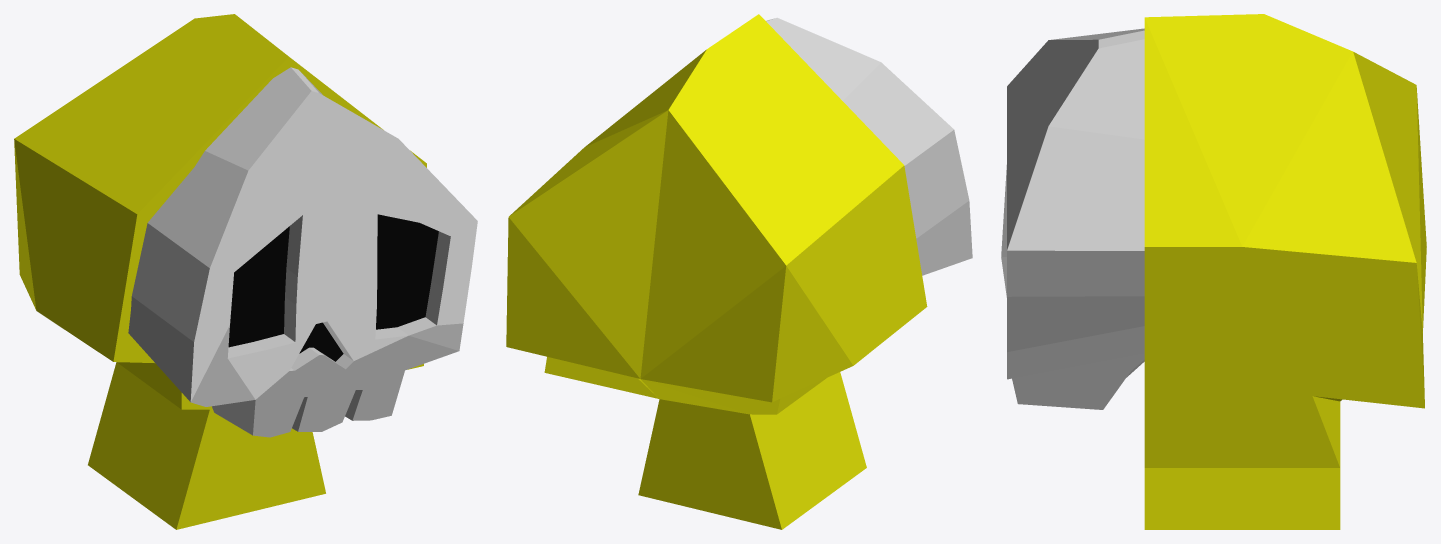
The model's file is lpm_yellow.fbx.
The picture shows the model from 3 angles, left to right: view 1: azimuth 30°, elevation 25°; view 2: azimuth 150°, elevation 25°; view 3: azimuth 270°, elevation 25°; orthographic projection. The views are drawn at different scales.
Visible parts, largest first — view 1: Head, Body; view 2: Body, Head; view 3: Body, Head.
Boxes of the visible parts, box(x1,y1,x2,y2) form: Head: box(128, 67, 477, 437); Body: box(14, 14, 426, 529); Body: box(506, 14, 927, 529); Head: box(766, 17, 972, 275); Body: box(1144, 14, 1426, 529); Head: box(1001, 28, 1144, 409).
Bounding box in the file's own units: 409 × 559 × 435.
